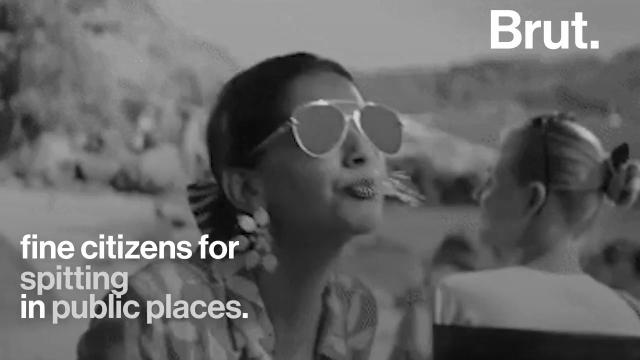spit: (324, 162, 449, 225)
